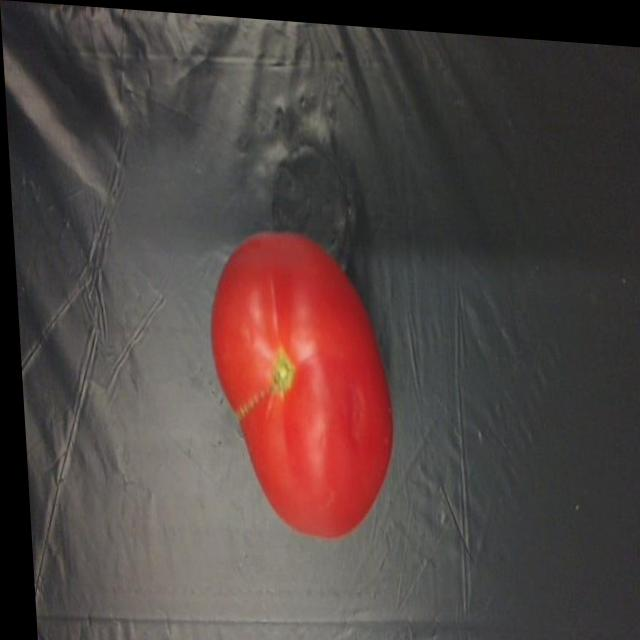kirmizi: (184, 224, 419, 559)
